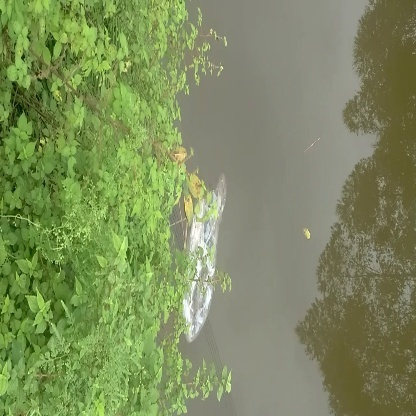plastic-bag: (177, 183, 229, 342)
